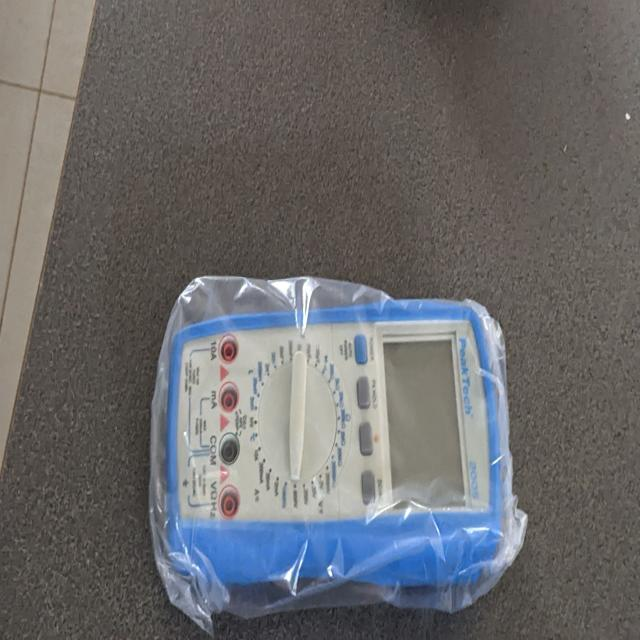Digital Multimeter: (138, 295, 516, 619)
